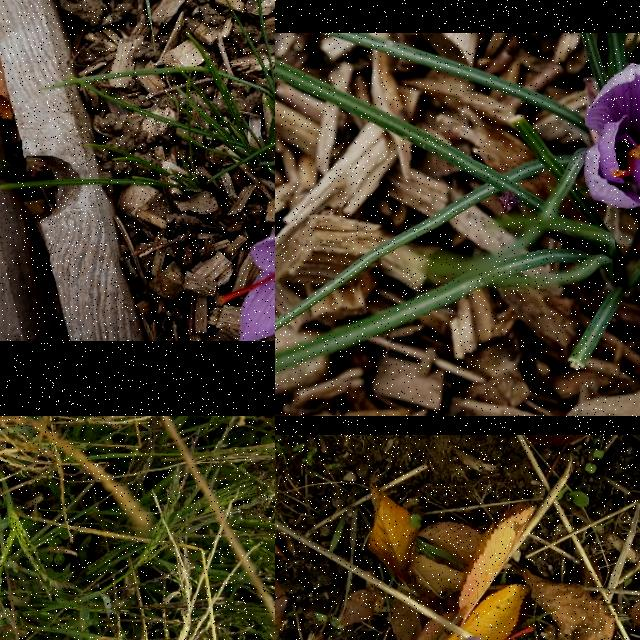flower: (219, 176, 275, 342), (584, 65, 640, 209)
